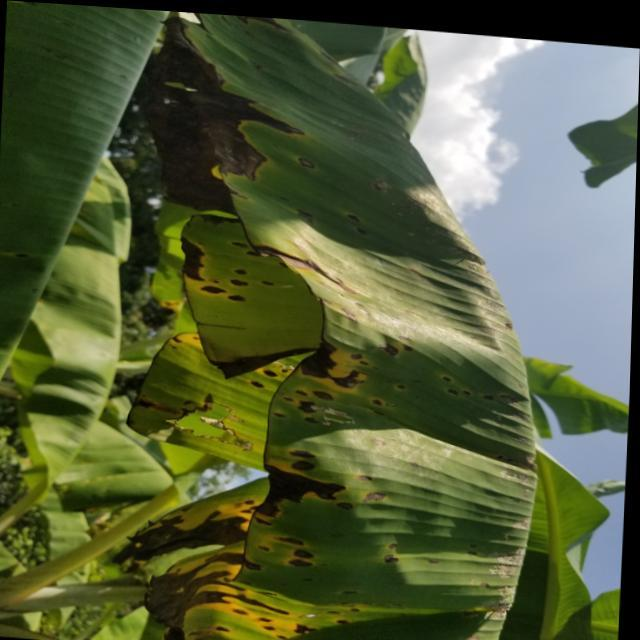Early_rust: (80, 0, 525, 640)
